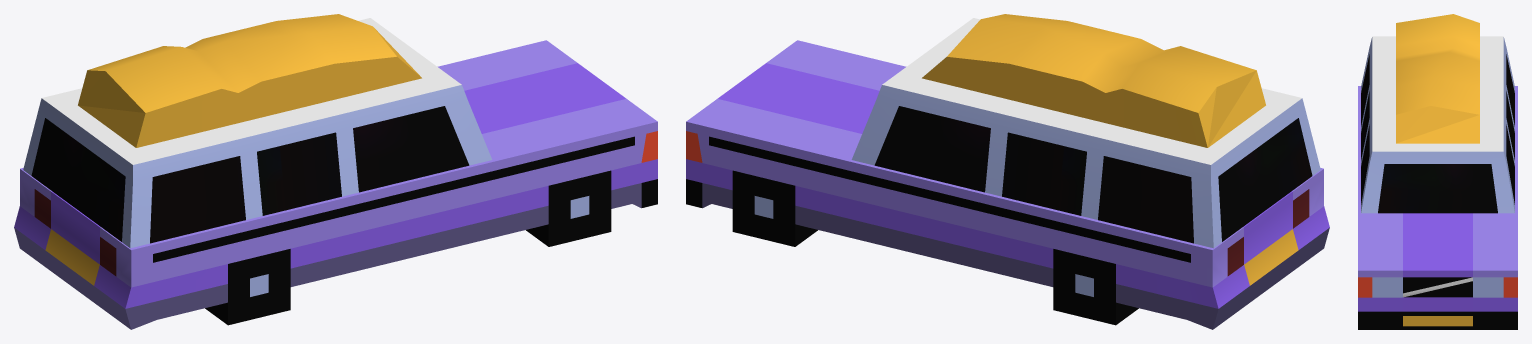
The model's file is car3.FBX.
3 views of the same model, side by side, from view 1: azimuth 30°, elevation 25°; view 2: azimuth 150°, elevation 25°; view 3: azimuth 270°, elevation 25° (orthographic). The views are drawn at different scales.
Parts seen in each view (by area): view 1: car4; view 2: car4; view 3: car4.
Part boxes in pixels (x1,y1,x2,y2): car4: [14, 14, 657, 329]; car4: [686, 14, 1329, 329]; car4: [1358, 14, 1517, 329].
Size of the model in its own units: 420 by 169 by 152.
